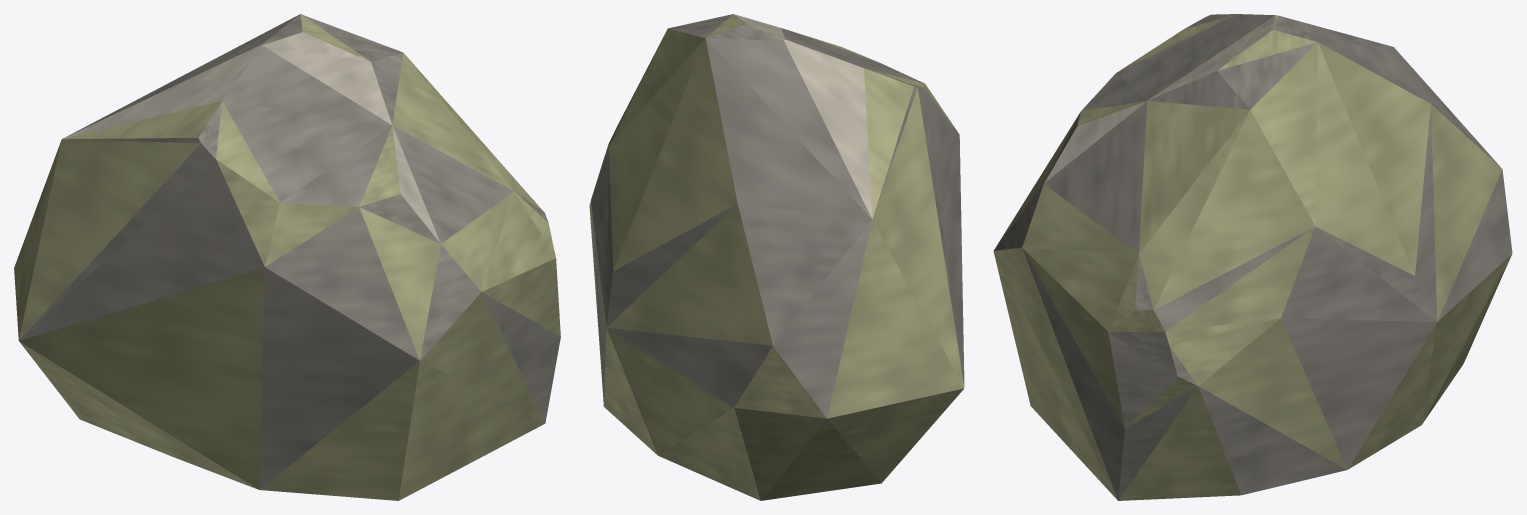
File: rock_medium_04.fbx
3 renders of one model, left to right at view 1: azimuth 30°, elevation 25°; view 2: azimuth 150°, elevation 25°; view 3: azimuth 270°, elevation 25°, orthographic. The views are drawn at different scales.
Parts seen in each view (by area): view 1: rock_medium_04; view 2: rock_medium_04; view 3: rock_medium_04.
Boxes of the visible parts, left/top/right/bottom form: rock_medium_04: left=14, top=14, right=560, bottom=500; rock_medium_04: left=589, top=14, right=964, bottom=500; rock_medium_04: left=993, top=14, right=1512, bottom=500.
Size of the model in its own units: 1.45 by 1.18 by 1.43.
